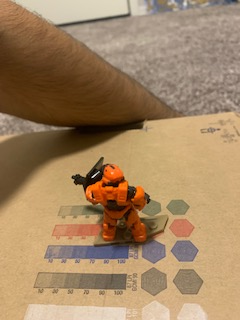soldier: (70, 154, 152, 248)
